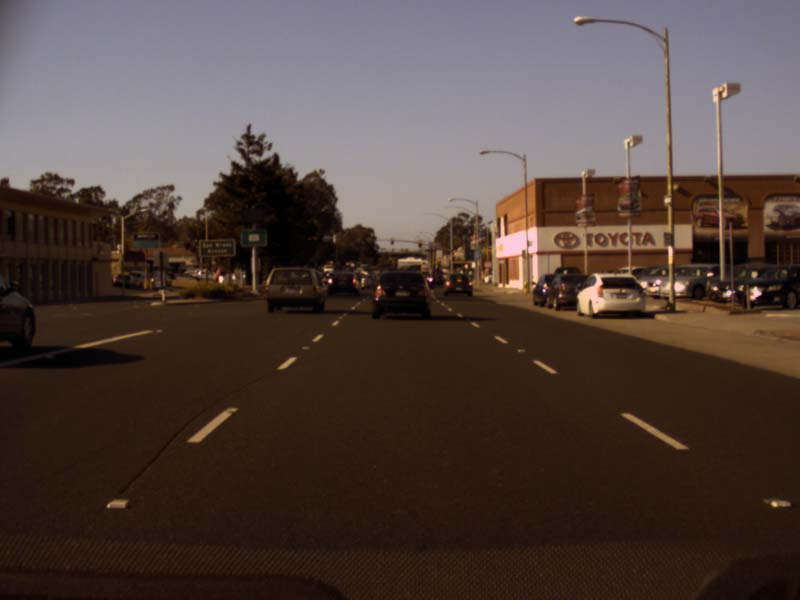Red: (418, 240, 421, 248)
Yellow: (390, 237, 394, 245)
